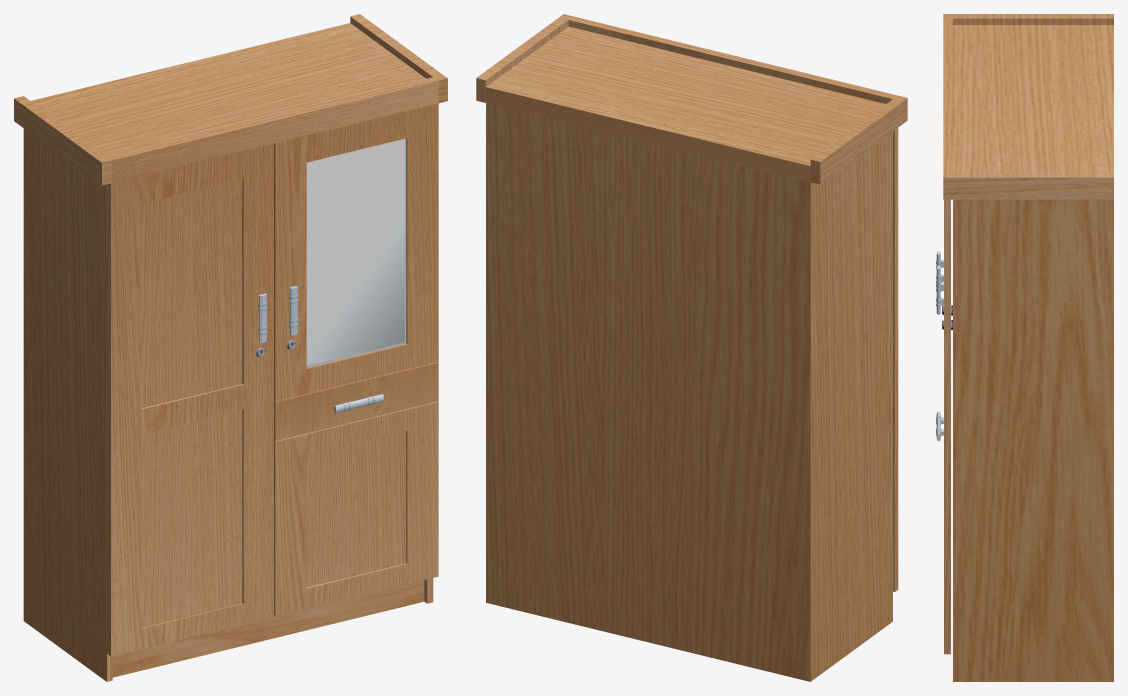
The picture shows the model from 3 angles, left to right: view 1: azimuth 30°, elevation 25°; view 2: azimuth 150°, elevation 25°; view 3: azimuth 270°, elevation 25°; orthographic projection. The views are drawn at different scales.
Parts seen in each view (by area): view 1: Plane, DOOR1.001, DOOR1; view 2: Plane, DOOR1.001; view 3: Plane, DOOR1, hang.001.
Boxes of the visible parts, x1,y1,x2,y2 form: Plane: (14,14,447,681); DOOR1.001: (107,143,273,656); DOOR1: (274,103,438,616); Plane: (476,14,907,681); DOOR1.001: (893,128,898,591); Plane: (943,14,1113,681); DOOR1: (944,199,951,654); hang.001: (936,265,943,314).
Bounding box in the file's own units: 3.48 × 5.05 × 1.6.
Materials: 5 (3 with a texture image).
